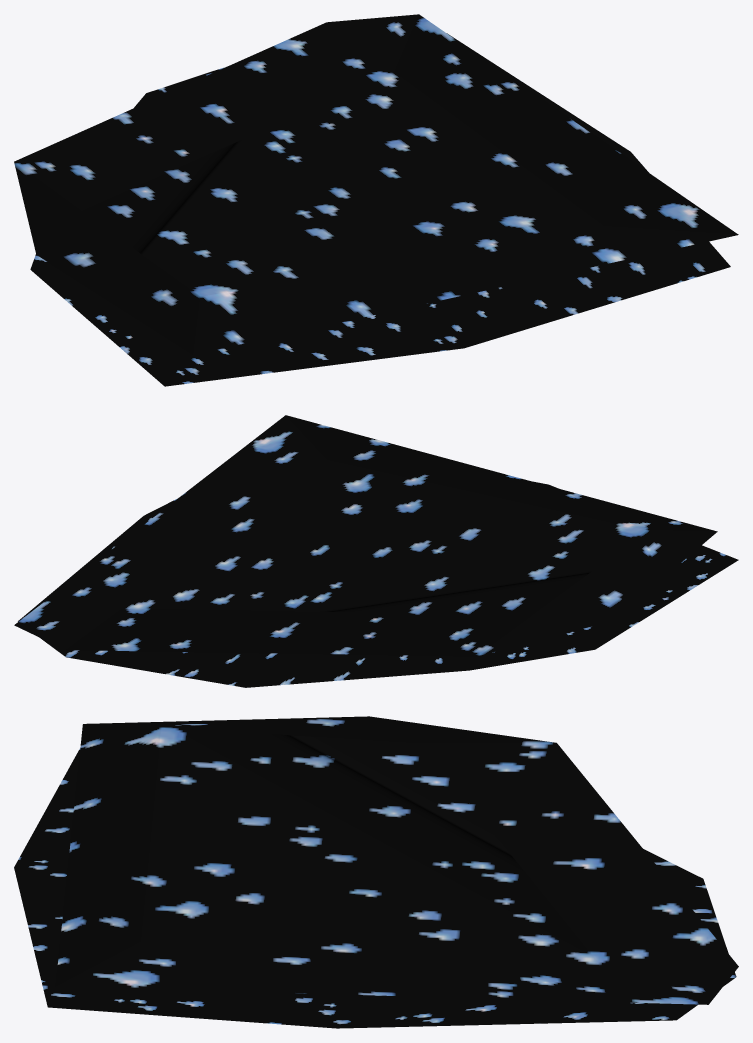
3 renders of one model, top to bottom at view 1: azimuth 30°, elevation 25°; view 2: azimuth 150°, elevation 25°; view 3: azimuth 270°, elevation 25°, orthographic. The views are drawn at different scales.
Visible parts, largest first — view 1: 26792; view 2: 26792; view 3: 26792.
Part boxes in pixels (x1,y1,x2,y2): 26792: (14, 14, 738, 386); 26792: (14, 415, 738, 687); 26792: (14, 716, 738, 1028).
Bounding box in the file's own units: 1.66 × 0.2014 × 1.75.
Materials: 1 (1 with a texture image).
